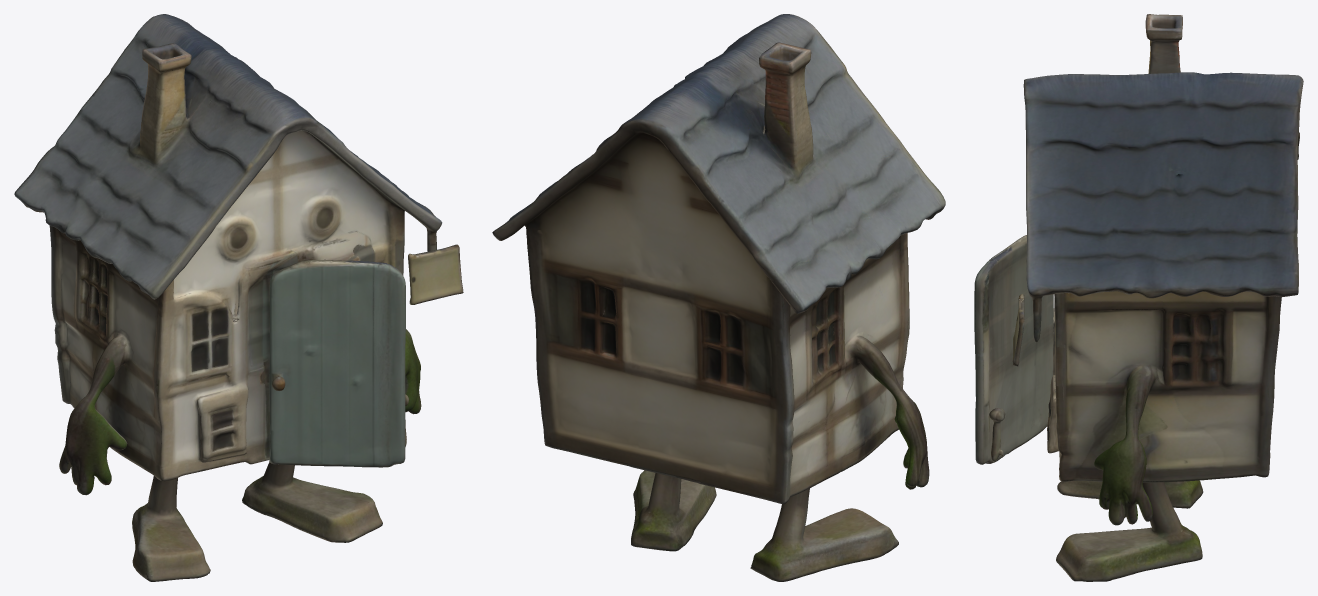
Rendered from HouseCharacter.glb.
3 views of the same model, side by side, from view 1: azimuth 30°, elevation 25°; view 2: azimuth 150°, elevation 25°; view 3: azimuth 270°, elevation 25° (orthographic). The views are drawn at different scales.
Bounding box in the file's own units: 1.53 × 2 × 1.25.
Materials: 1 (1 with a texture image).
